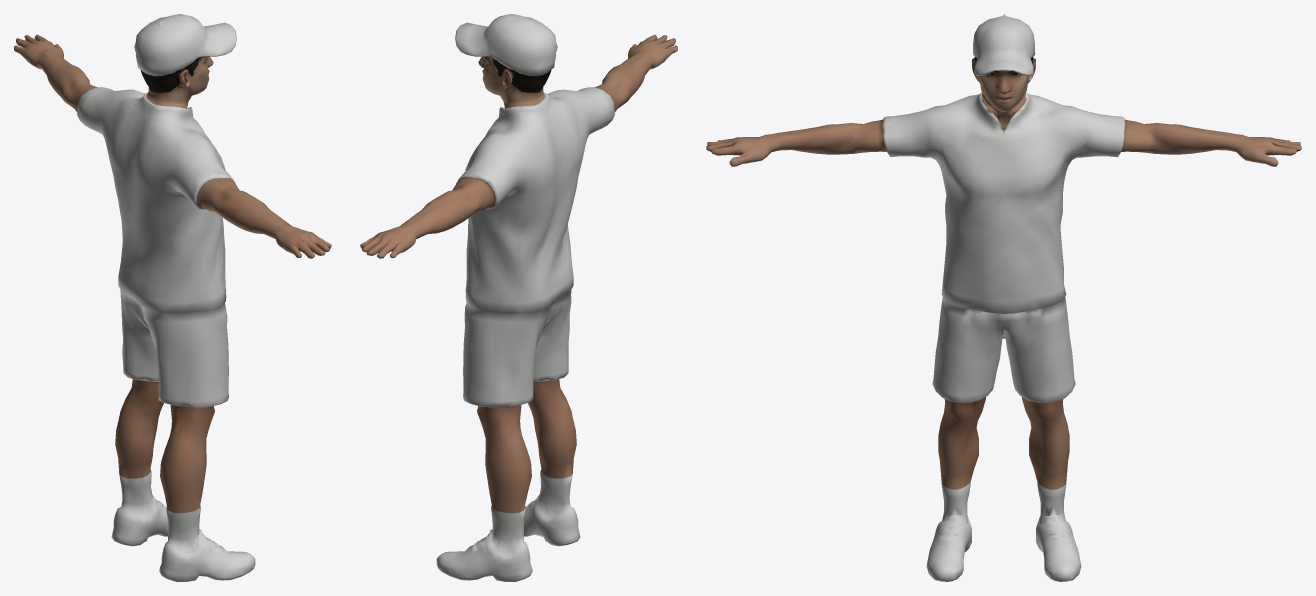
File: spieler_e.glb
3 renders of one model, left to right at view 1: azimuth 30°, elevation 25°; view 2: azimuth 150°, elevation 25°; view 3: azimuth 270°, elevation 25°, orthographic.
Visible parts, largest first — view 1: spieler; view 2: spieler; view 3: spieler.
Boxes of the visible parts, left/top/right/bottom form: spieler: left=14, top=14, right=331, bottom=581; spieler: left=360, top=14, right=677, bottom=581; spieler: left=706, top=14, right=1301, bottom=581.
Bounding box in the file's own units: 0.2051 × 0.998 × 0.998.
Materials: 1 (1 with a texture image).
